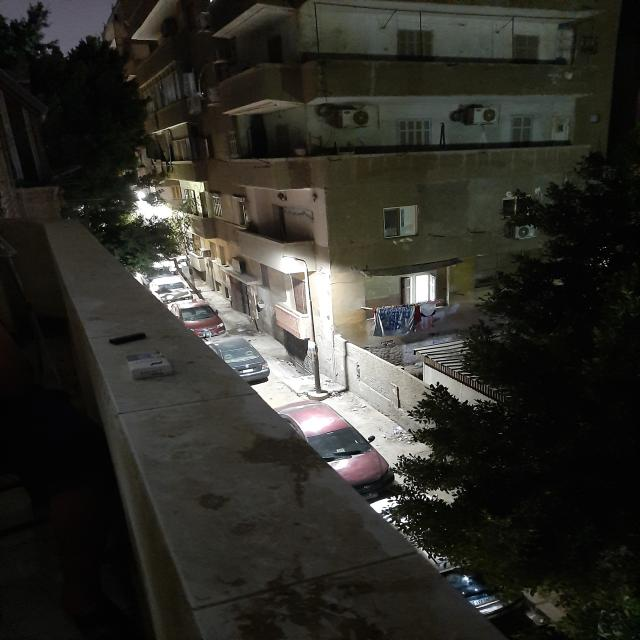Street Light: (281, 256, 322, 394)
